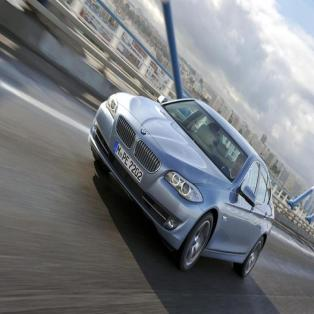Auto: (83, 87, 278, 283)
